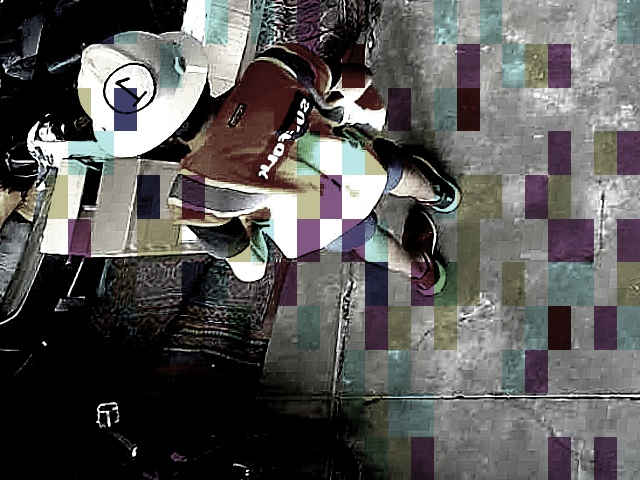one: (99, 62, 159, 116)
